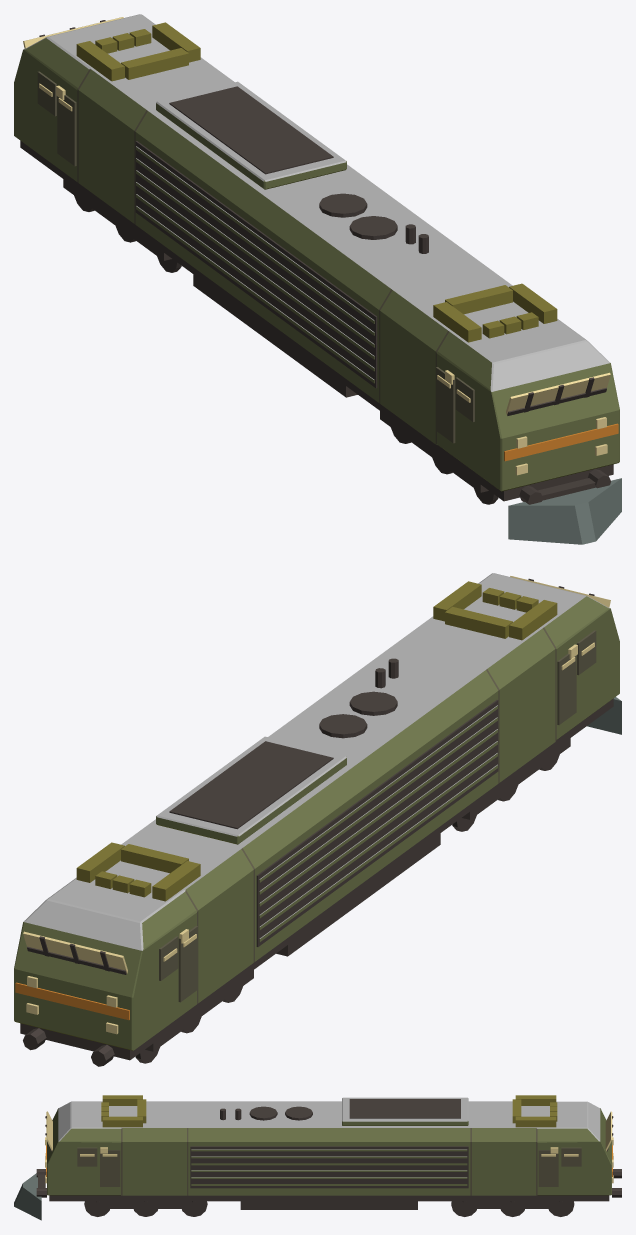
The model's file is SM_Locomotora_Cercana_LOD0.fbx.
3 views of the same model, one above another, from view 1: azimuth 30°, elevation 25°; view 2: azimuth 150°, elevation 25°; view 3: azimuth 270°, elevation 25° (orthographic). The views are drawn at different scales.
Parts seen in each view (by area): view 1: SM_bloques.locomotora_cercana_LOD0, Emision; view 2: SM_bloques.locomotora_cercana_LOD0, Emision; view 3: SM_bloques.locomotora_cercana_LOD0, Emision.
Part boxes in pixels (x1,y1,x2,y2): SM_bloques.locomotora_cercana_LOD0: (14,14,621,544); Emision: (23,17,610,475); SM_bloques.locomotora_cercana_LOD0: (14,573,621,1066); Emision: (23,576,610,1034); SM_bloques.locomotora_cercana_LOD0: (14,1095,621,1220); Emision: (45,1111,613,1183).
Size of the model in its own units: 3.34 by 4.45 by 24.03.
